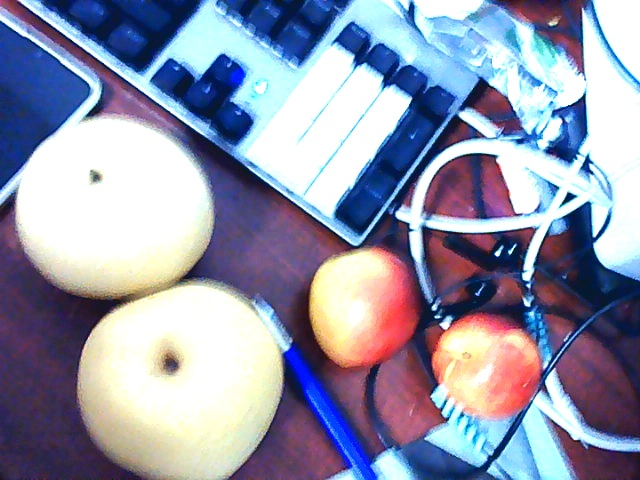peach: (307, 244, 420, 371), (432, 311, 538, 419)
pear: (78, 292, 285, 477), (18, 110, 228, 287)
